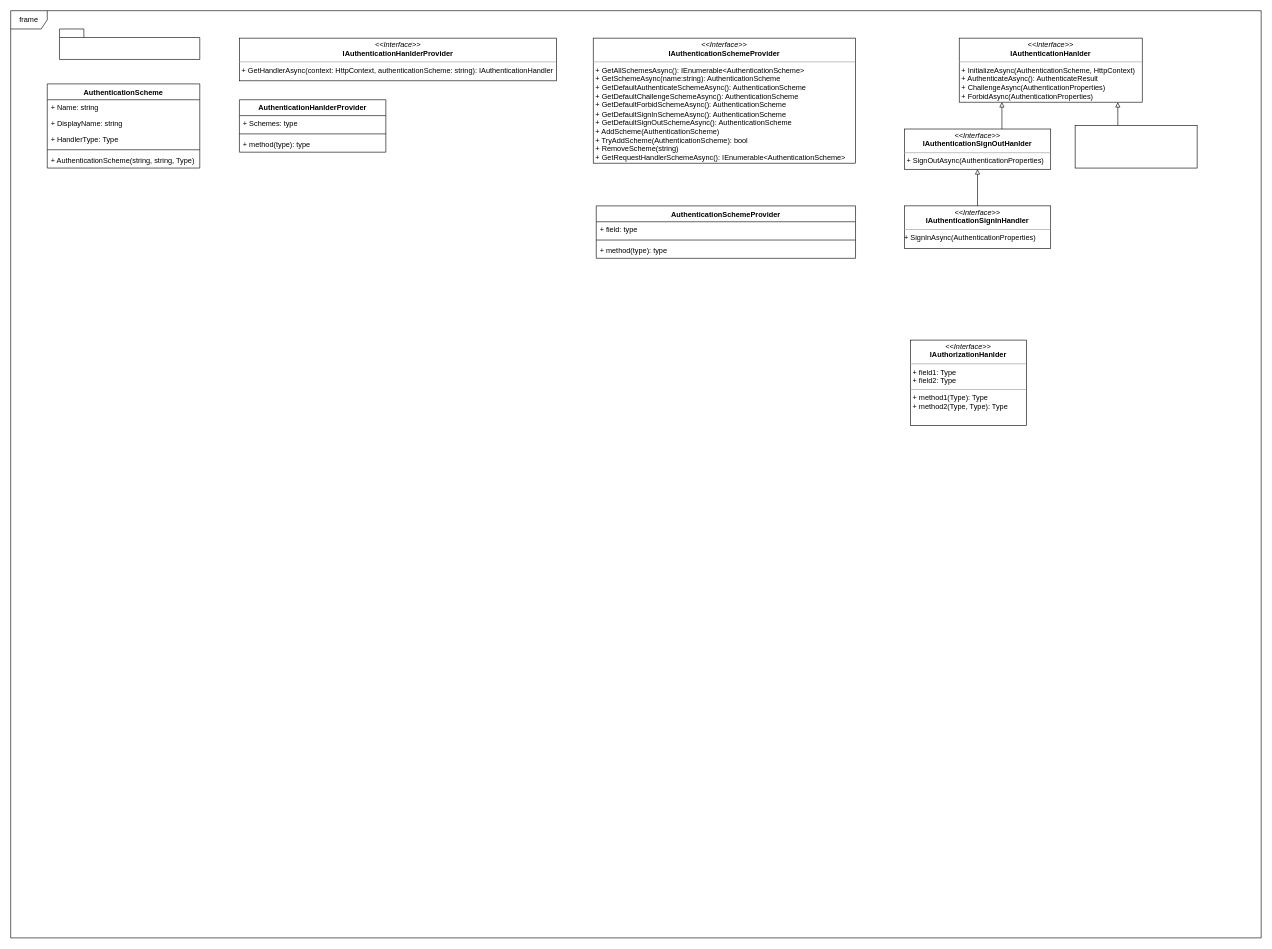
The diagram is 1272 pixels wide and 949 high, and some of its shapes have lost their labels. Each missing label, with the centre of its shape:
"<<Interface>> IAuthenticationRequestHandler + HandleRequestAsync(): bool" goes at [1136,146].
"Microsoft.AspNetCore.Authentication" goes at [129,43].
